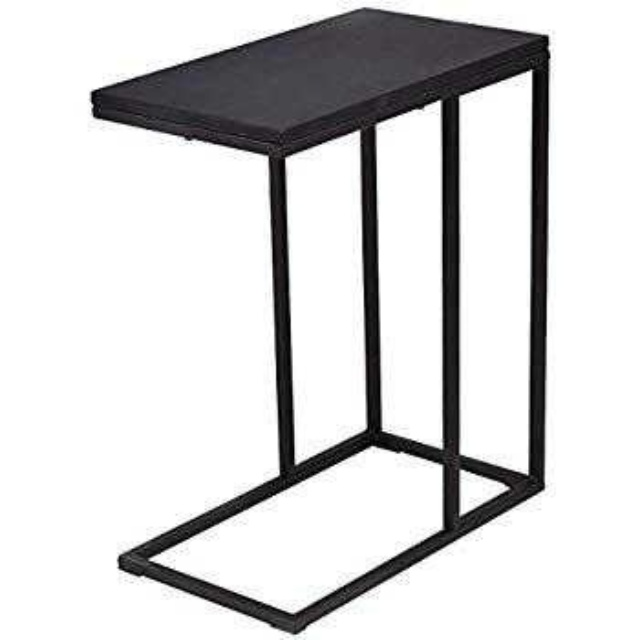obstacle: (91, 7, 547, 631)
